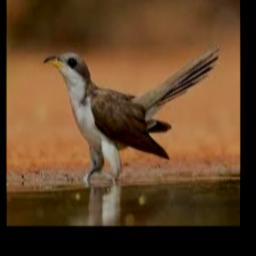Cuckoo: (43, 43, 219, 179)
